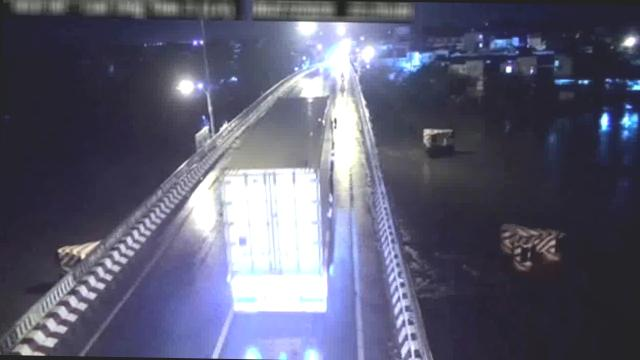Truck: (217, 94, 334, 316)
